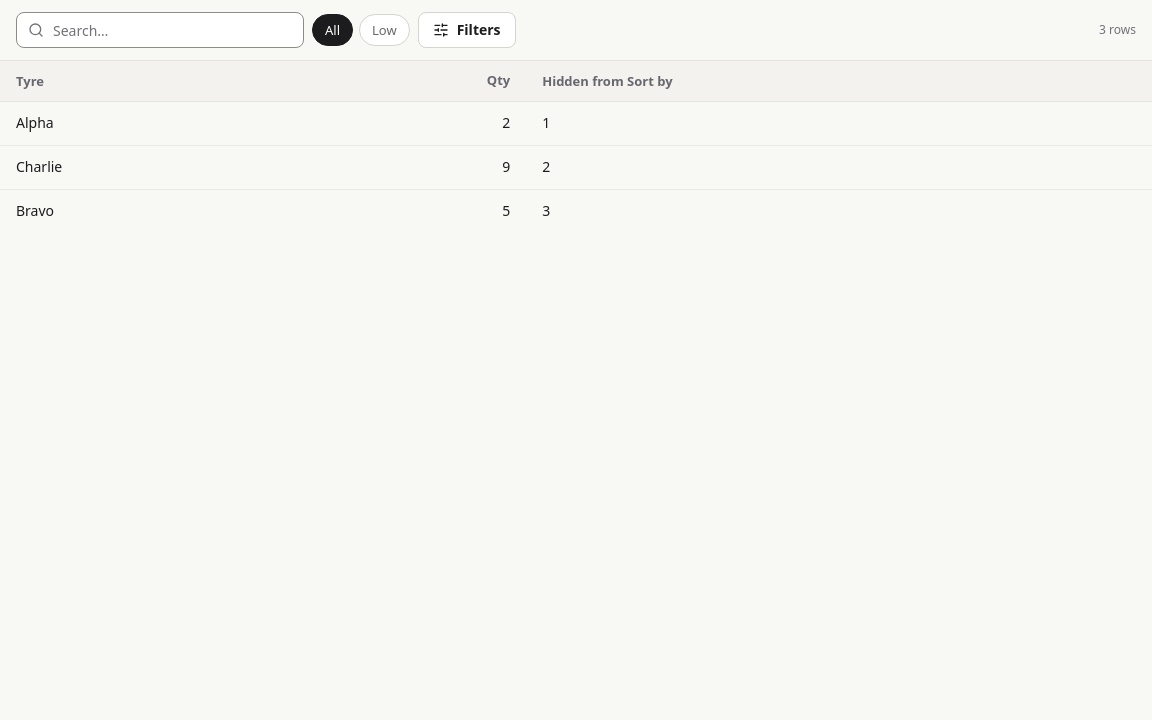
DataTable filters on a phone › offers only the chosen columns under Sort by, sorts, and announces the sort
Step 1. Click the button "Filters" → (467, 30), box left=418, top=12, right=516, bottom=48
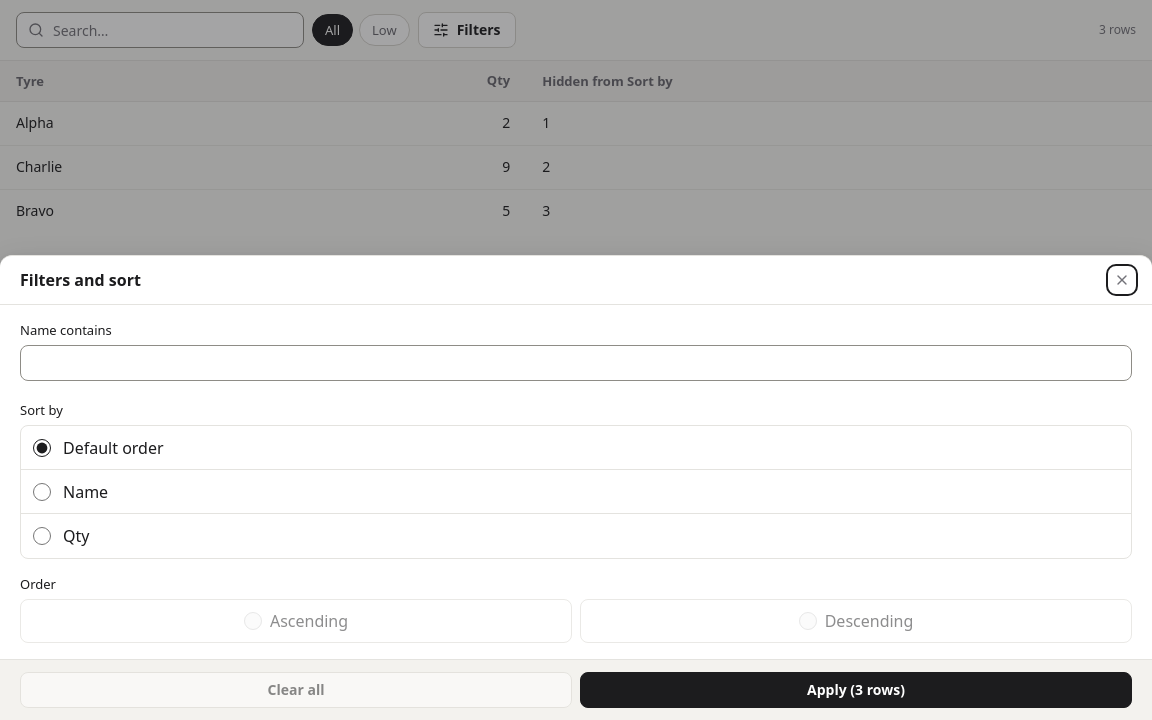
Step 2. Click the radio button labelled "Qty" → (42, 536), box left=33, top=527, right=51, bottom=545
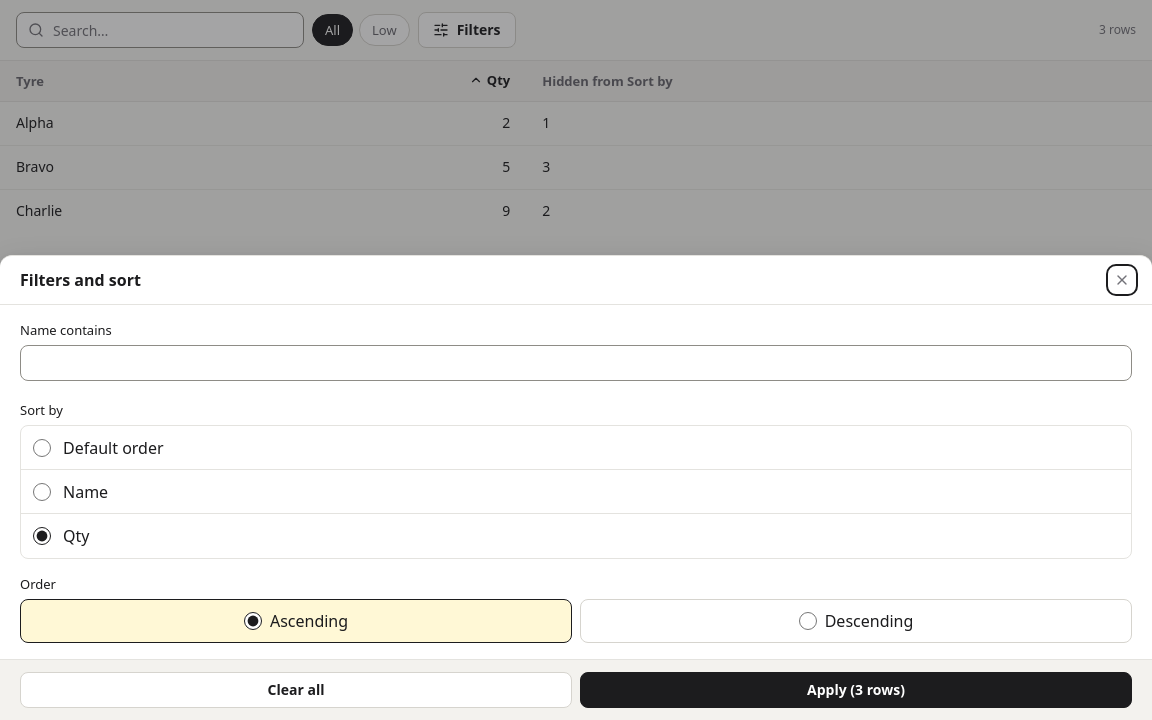
Step 3. Click the radio button labelled "Descending" → (808, 621), box left=799, top=612, right=817, bottom=630
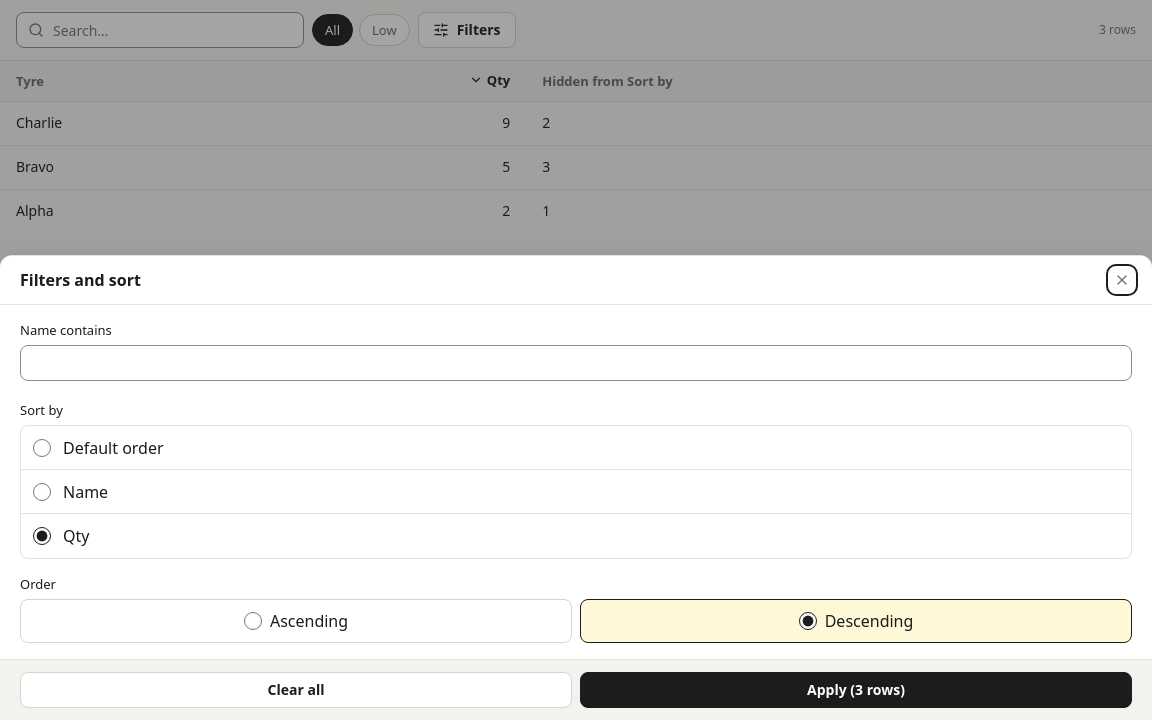
Step 4. Click the button "Apply (3 rows)" → (856, 690), box left=580, top=672, right=1132, bottom=708
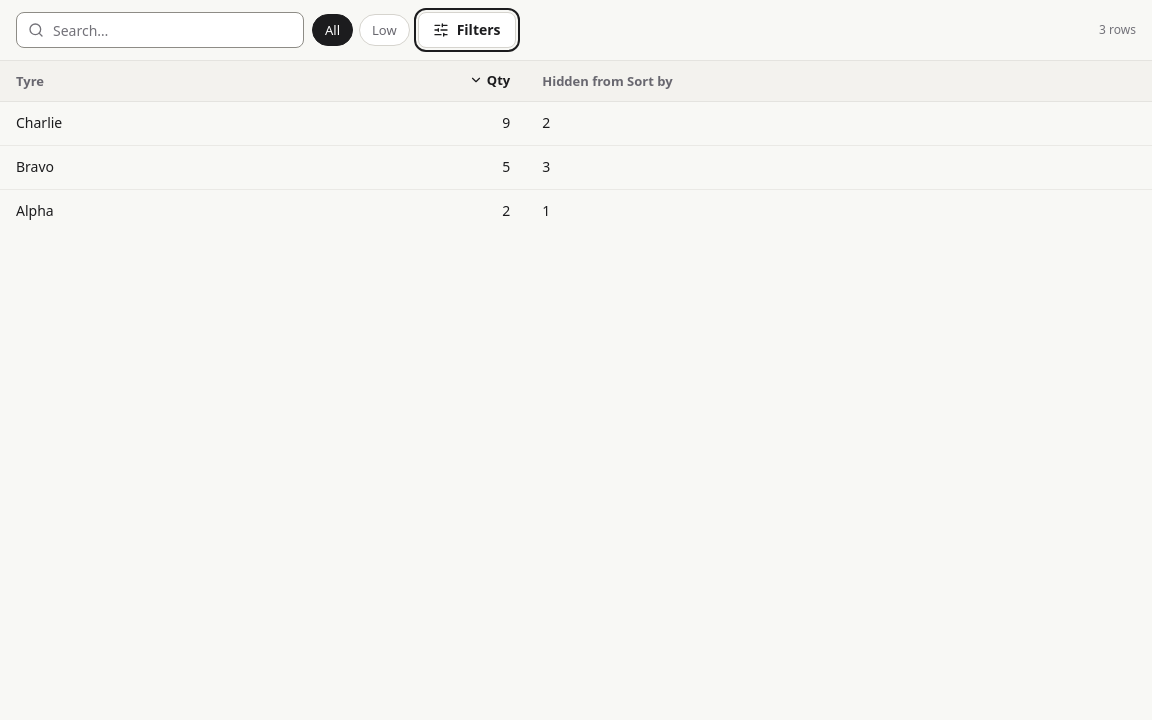
Result: the column heading "Qty" has attribute aria-sort="descending" at left=272, top=61, right=526, bottom=101
